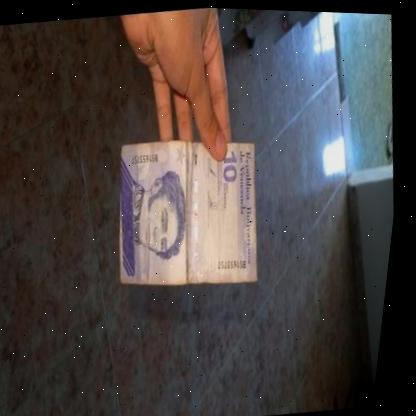ten-front-vef: (108, 127, 279, 298)
